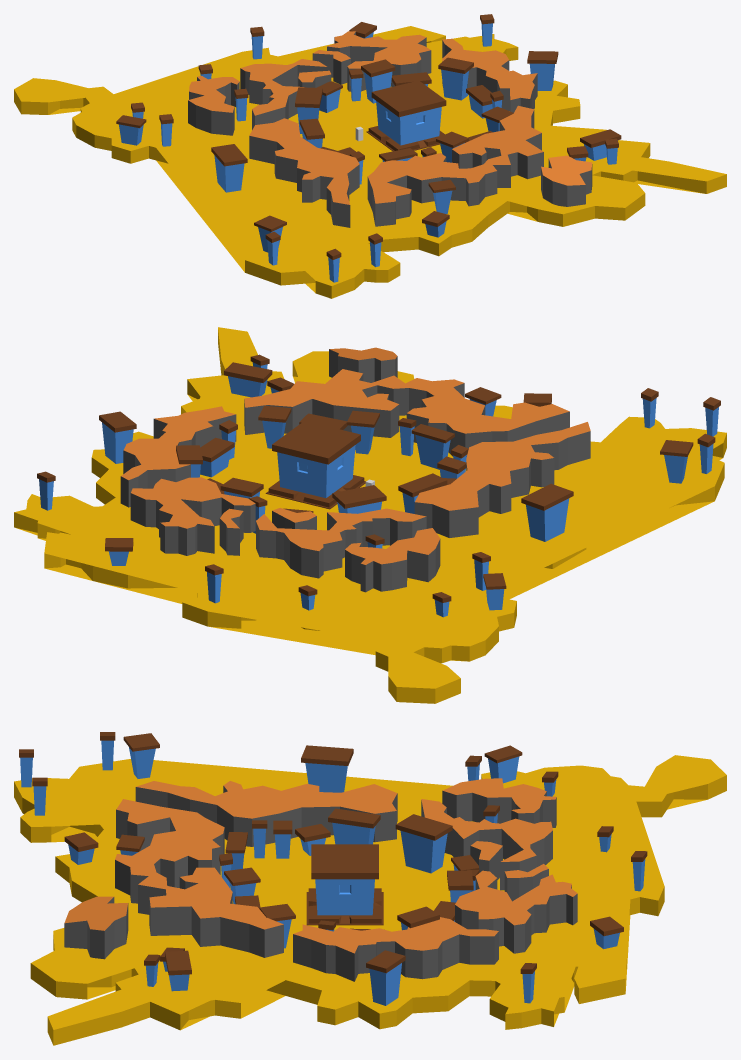
Rendered from mapa2.fbx.
3 views of the same model, one above another, from view 1: azimuth 30°, elevation 25°; view 2: azimuth 150°, elevation 25°; view 3: azimuth 270°, elevation 25° (orthographic). The views are drawn at different scales.
Parts seen in each view (by area): view 1: camino.002, rocas, Cube.030, Cube.055, Cube.040, Cube.053, Cube.025, Cube.013, Cube.042, Cube.047, Cube.054, Cube.039 (+5 smaller); view 2: camino.002, rocas, Cube.030, Cube.055, Cube.053, Cube.042, Cube.032, Cube.013, Cube.039, Cube.043, Cube.033, Cube.036 (+5 smaller); view 3: camino.002, rocas, Cube.030, Cube.013, Cube.055, Cube.053, Cube, Cube.043, Cube.047, Cube.042, Cube.033, Cube.050 (+8 smaller).
Boxes of the visible parts, box(x1,y1,x2,y2) form: camino.002: box(14, 26, 726, 298); rocas: box(188, 31, 592, 227); Cube.030: box(366, 80, 446, 151); Cube.055: box(211, 144, 247, 192); Cube.040: box(438, 57, 473, 100); Cube.053: box(527, 51, 558, 90); Cube.025: box(361, 59, 395, 103); Cube.013: box(295, 87, 322, 133); Cube.042: box(580, 129, 621, 160); Cube.047: box(116, 115, 146, 145); Cube.054: box(428, 179, 455, 213); Cube.039: box(466, 85, 492, 118); camino.002: box(14, 327, 726, 703); rocas: box(120, 347, 590, 592); Cube.030: box(265, 421, 365, 509); Cube.055: box(521, 483, 573, 541); Cube.053: box(99, 411, 136, 463); Cube.042: box(224, 362, 272, 397); Cube.032: box(411, 424, 454, 469); Cube.013: box(332, 485, 386, 513); Cube.039: box(200, 437, 234, 477); Cube.043: box(660, 440, 693, 483); Cube.033: box(347, 410, 379, 454); Cube.036: box(258, 405, 291, 448); camino.002: box(14, 755, 726, 1045); rocas: box(64, 778, 577, 981); Cube.030: box(306, 844, 383, 925); Cube.013: box(395, 814, 452, 873); Cube.055: box(301, 745, 353, 792); Cube.053: box(366, 950, 405, 1005); Cube: box(328, 808, 380, 844); Cube.043: box(123, 733, 159, 778); Cube.047: box(484, 745, 522, 783); Cube.042: box(165, 950, 191, 991); Cube.033: box(224, 867, 260, 904); Cube.050: box(64, 832, 98, 864).
Size of the model in its own units: 9150 by 10026 by 1026.
